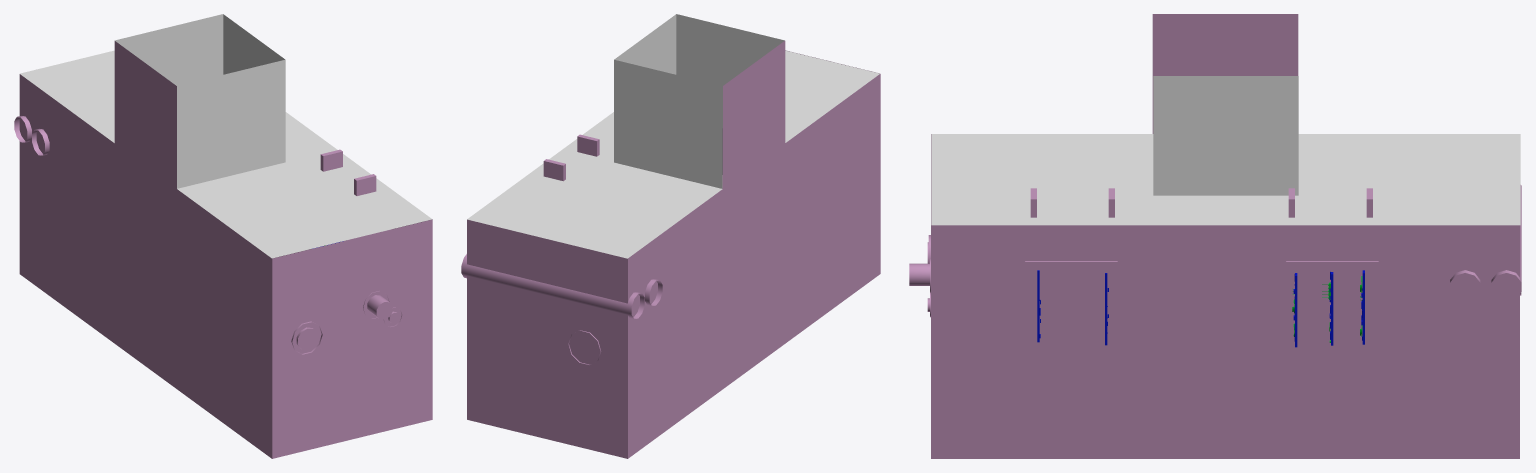
File: Boss_arm_room.FBX
The picture shows the model from 3 angles, left to right: view 1: azimuth 30°, elevation 25°; view 2: azimuth 150°, elevation 25°; view 3: azimuth 270°, elevation 25°; orthographic projection. The views are drawn at different scales.
Visible parts, largest first — view 1: arm_room, arm_roof; view 2: arm_room, arm_roof; view 3: arm_room, arm_roof.
Part boxes in pixels (x1=…): arm_room: x1=14, y1=41, x2=432, y2=458; arm_roof: x1=20, y1=14, x2=431, y2=258; arm_room: x1=461, y1=41, x2=880, y2=458; arm_roof: x1=467, y1=14, x2=879, y2=258; arm_room: x1=909, y1=14, x2=1521, y2=458; arm_roof: x1=931, y1=76, x2=1520, y2=225.
Bounding box in the file's own units: 95.14 × 162 × 254.
